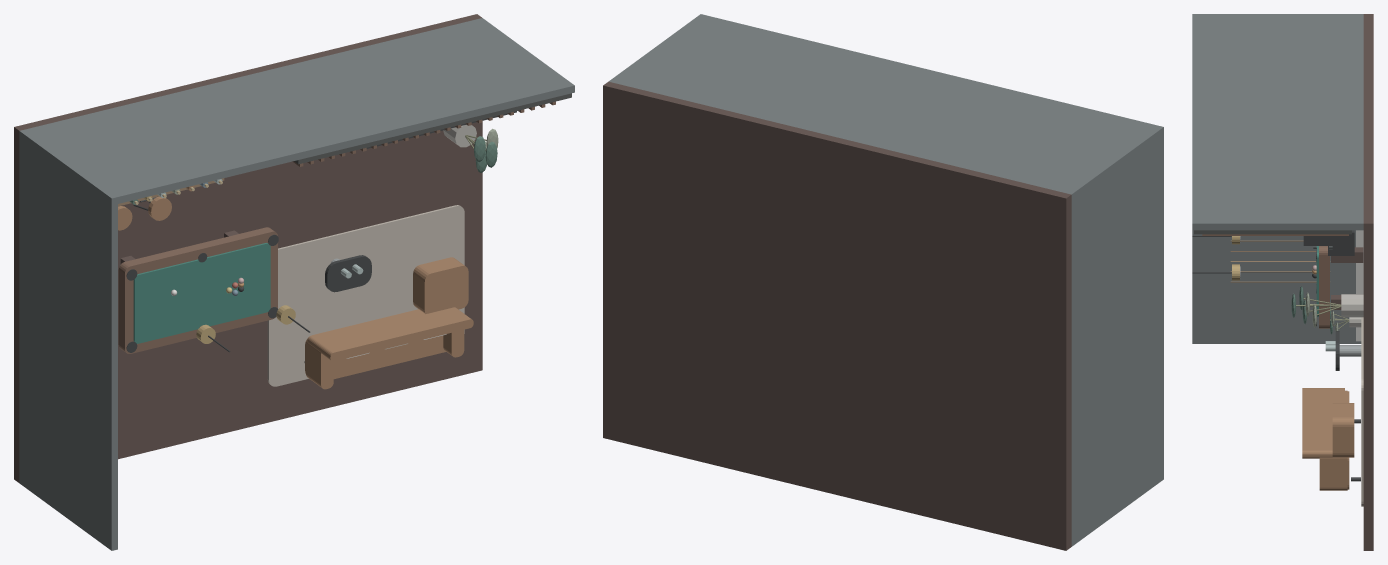
Rendered from 3d-home-hangout-lounge.glb.
The picture shows the model from 3 angles, left to right: view 1: azimuth 30°, elevation 25°; view 2: azimuth 150°, elevation 25°; view 3: azimuth 270°, elevation 25°; orthographic projection. The views are drawn at different scales.
Parts seen in each view (by area): view 1: foundation_floor_001, rear_feature_wall_002, left_wall_003, area_rug_131, billiards_green_felt_043, billiards_table_stone_outer_042, sofa_backrest_133, social_ottoman_141, sofa_seat_132, gaming_entertainment_feature_006, round_drinks_table_142, sofa_arm_134; view 2: foundation_floor_001, rear_feature_wall_002, left_wall_003; view 3: rear_feature_wall_002, left_wall_003, foundation_floor_001, sofa_backrest_133, social_ottoman_141, billiards_table_stone_outer_042, sofa_arm_135, gaming_entertainment_feature_006, area_rug_131, plant_pot_156, thin_baseboard_left_005, sofa_seat_132 (+5 smaller).
Boxes of the visible parts, x1=… form: foundation_floor_001: x1=14, y1=14, x2=482, y2=482; rear_feature_wall_002: x1=19, y1=18, x2=574, y2=205; left_wall_003: x1=19, y1=129, x2=117, y2=550; area_rug_131: x1=267, y1=205, x2=464, y2=386; billiards_green_felt_043: x1=133, y1=243, x2=270, y2=343; billiards_table_stone_outer_042: x1=118, y1=227, x2=277, y2=353; sofa_backrest_133: x1=307, y1=307, x2=473, y2=361; social_ottoman_141: x1=413, y1=257, x2=468, y2=313; sofa_seat_132: x1=305, y1=309, x2=445, y2=379; gaming_entertainment_feature_006: x1=294, y1=93, x2=571, y2=164; round_drinks_table_142: x1=325, y1=255, x2=371, y2=292; sofa_arm_134: x1=306, y1=339, x2=333, y2=389; foundation_floor_001: x1=603, y1=81, x2=1071, y2=550; rear_feature_wall_002: x1=609, y1=14, x2=1163, y2=200; left_wall_003: x1=1068, y1=125, x2=1163, y2=546; rear_feature_wall_002: x1=1192, y1=14, x2=1363, y2=230; left_wall_003: x1=1192, y1=14, x2=1362, y2=343; foundation_floor_001: x1=1363, y1=14, x2=1373, y2=550; sofa_backrest_133: x1=1302, y1=388, x2=1344, y2=458; social_ottoman_141: x1=1332, y1=403, x2=1354, y2=457; billiards_table_stone_outer_042: x1=1319, y1=246, x2=1329, y2=328; sofa_arm_135: x1=1319, y1=457, x2=1347, y2=490; gaming_entertainment_feature_006: x1=1194, y1=230, x2=1351, y2=234; area_rug_131: x1=1361, y1=317, x2=1363, y2=506; plant_pot_156: x1=1341, y1=294, x2=1363, y2=317; thin_baseboard_left_005: x1=1356, y1=230, x2=1363, y2=341; sofa_seat_132: x1=1335, y1=391, x2=1349, y2=489.
Size of the model in its own units: 11 by 8 by 4.02.
